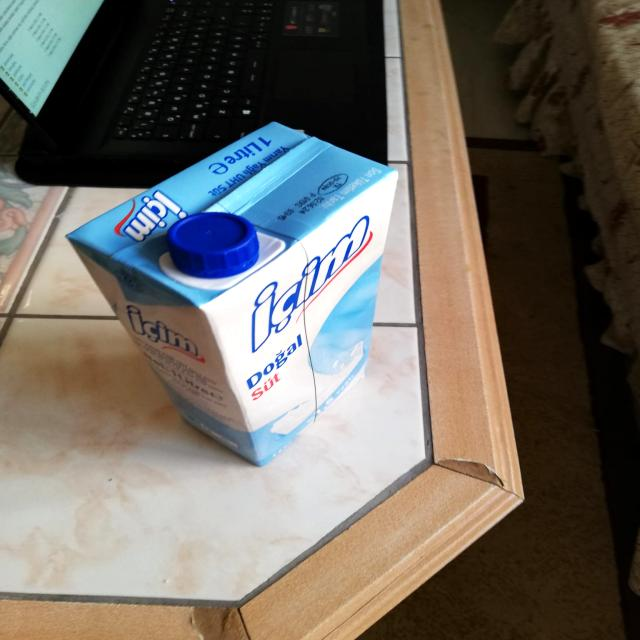milk: (75, 118, 396, 464)
